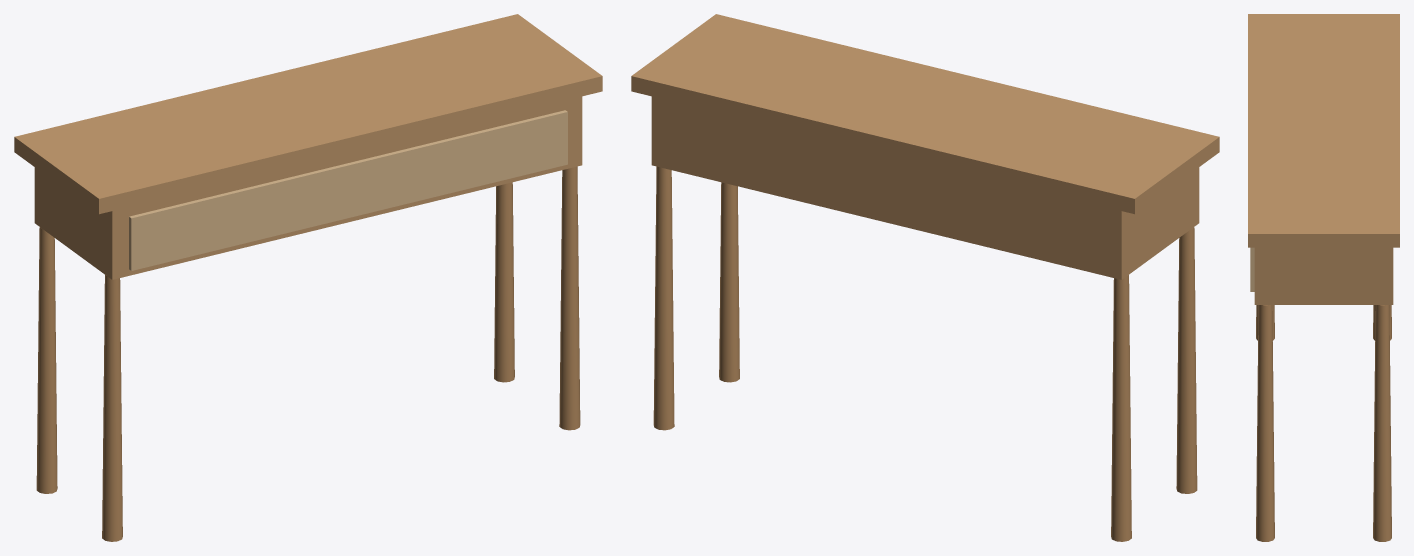
The model's file is console-lite.glb.
The picture shows the model from 3 angles, left to right: view 1: azimuth 30°, elevation 25°; view 2: azimuth 150°, elevation 25°; view 3: azimuth 270°, elevation 25°; orthographic projection. The views are drawn at different scales.
Parts seen in each view (by area): view 1: material-0-top, material-2-drawer, material-3-leg, material-1-body; view 2: material-0-top, material-1-body, material-3-leg; view 3: material-0-top, material-3-leg, material-1-body, material-2-drawer.
Part boxes in pixels (bbox=[...]): material-0-top: bbox=[14, 14, 602, 214]; material-2-drawer: bbox=[129, 110, 567, 270]; material-3-leg: bbox=[36, 166, 580, 541]; material-1-body: bbox=[34, 96, 582, 279]; material-0-top: bbox=[631, 14, 1219, 214]; material-1-body: bbox=[651, 96, 1199, 279]; material-3-leg: bbox=[653, 166, 1197, 541]; material-0-top: bbox=[1248, 14, 1399, 247]; material-3-leg: bbox=[1256, 305, 1391, 541]; material-1-body: bbox=[1254, 247, 1393, 304]; material-2-drawer: bbox=[1250, 247, 1254, 291].
Bounding box in the file's own units: 1.2 × 0.8 × 0.35.
